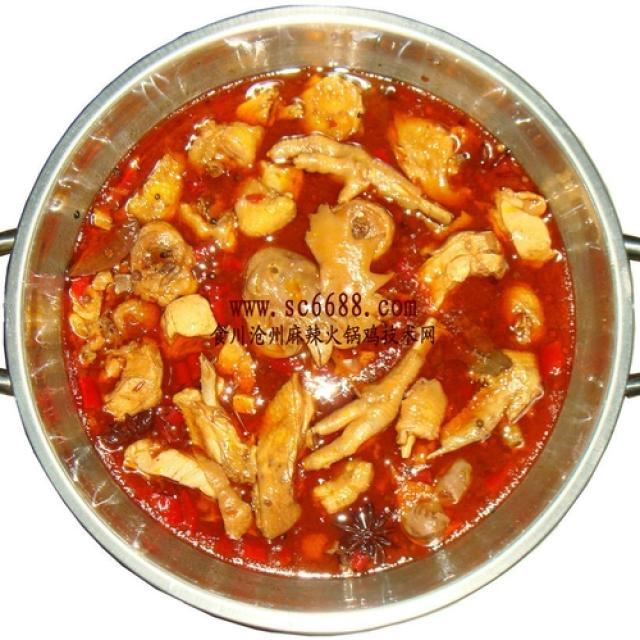汤锅炖物: (45, 82, 587, 584)
